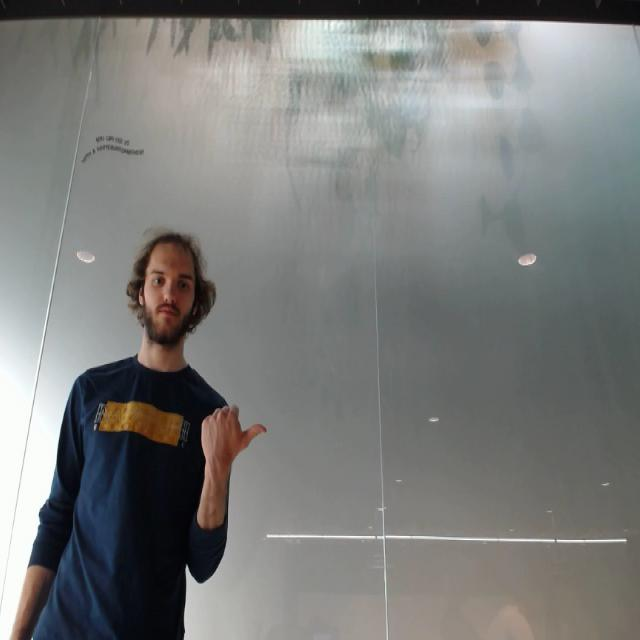right: (198, 398, 272, 470)
